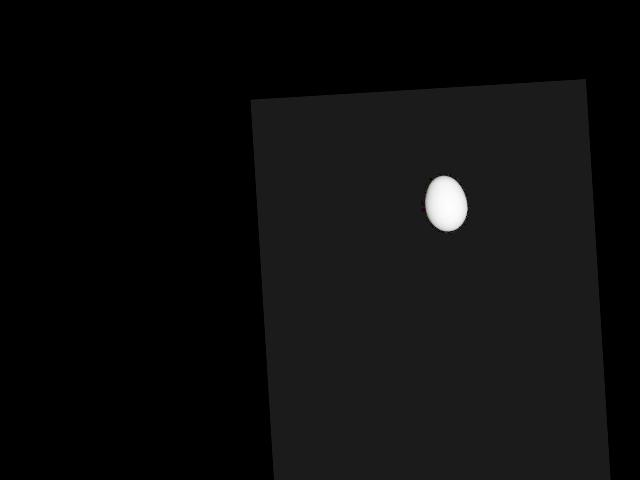egg: (424, 175, 468, 233)
